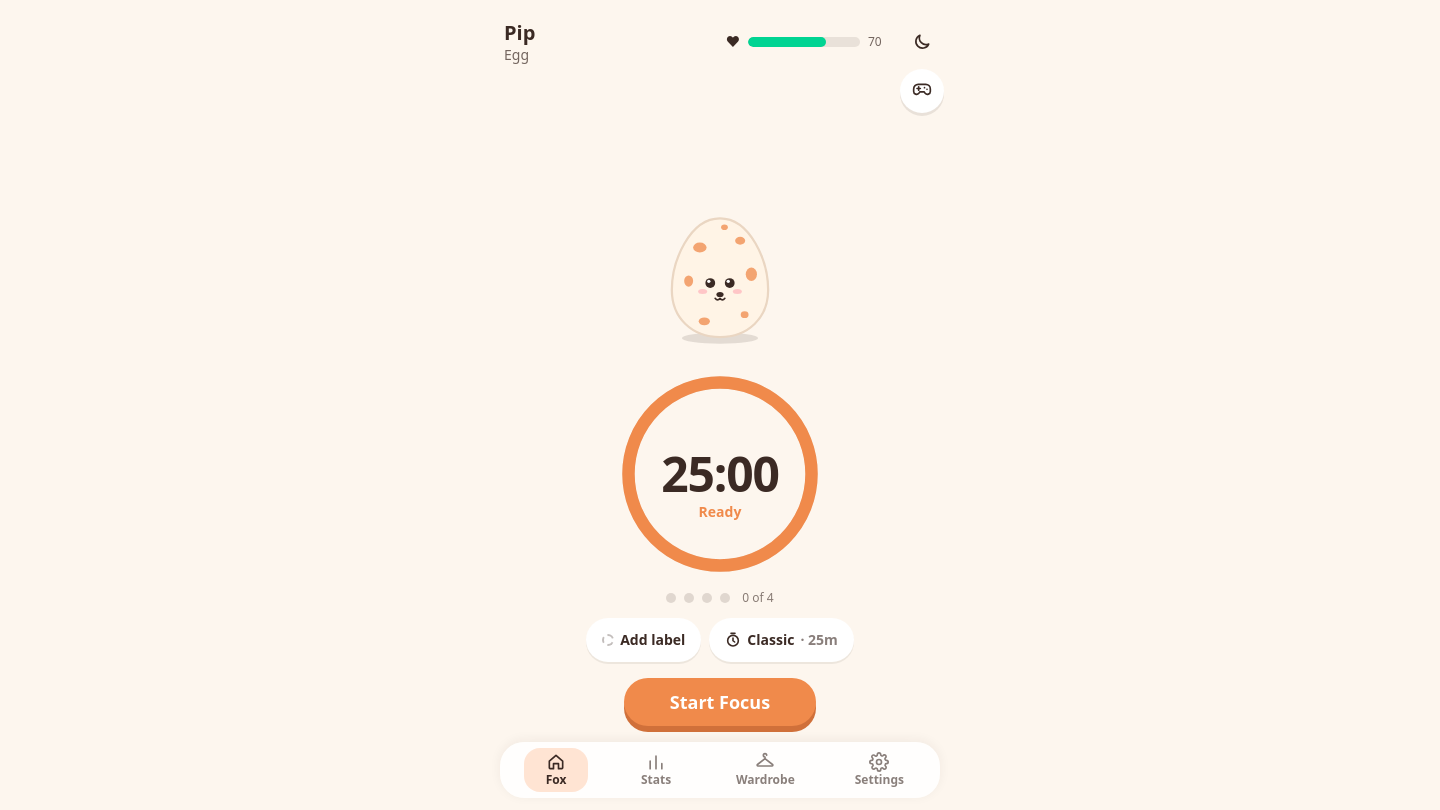
PresetPicker on Home › picks a preset and locks during a session
What coordinates should you click on to do the following:
click the button with aria-label "Timer preset: Classic"
I would click on:
 (782, 640)
Its box is left=709, top=618, right=854, bottom=662.
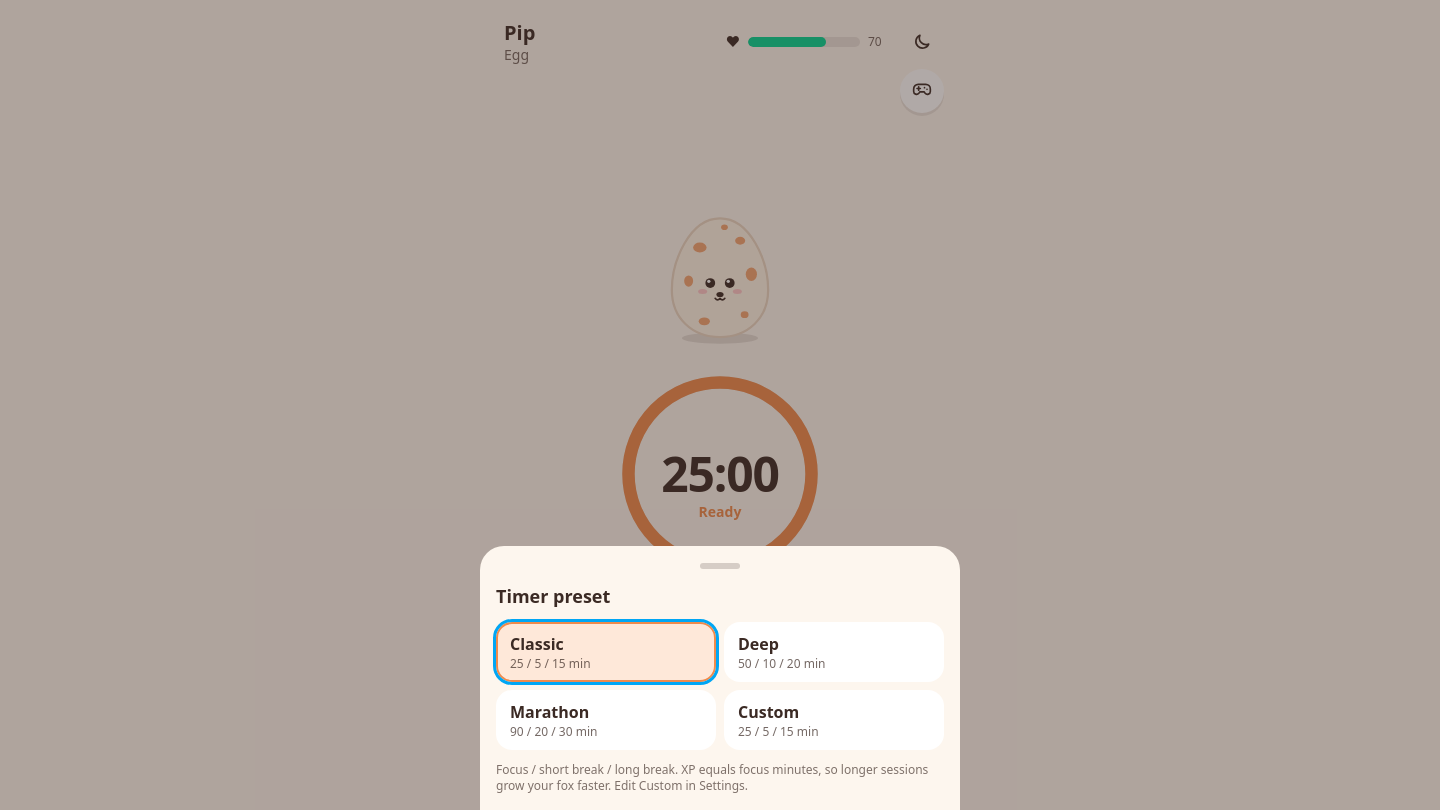
What coordinates should you click on to do the following:
click the radio button labelled "Deep 50 / 10 / 20 min"
I would click on:
 (834, 652)
Its box is left=724, top=622, right=944, bottom=682.
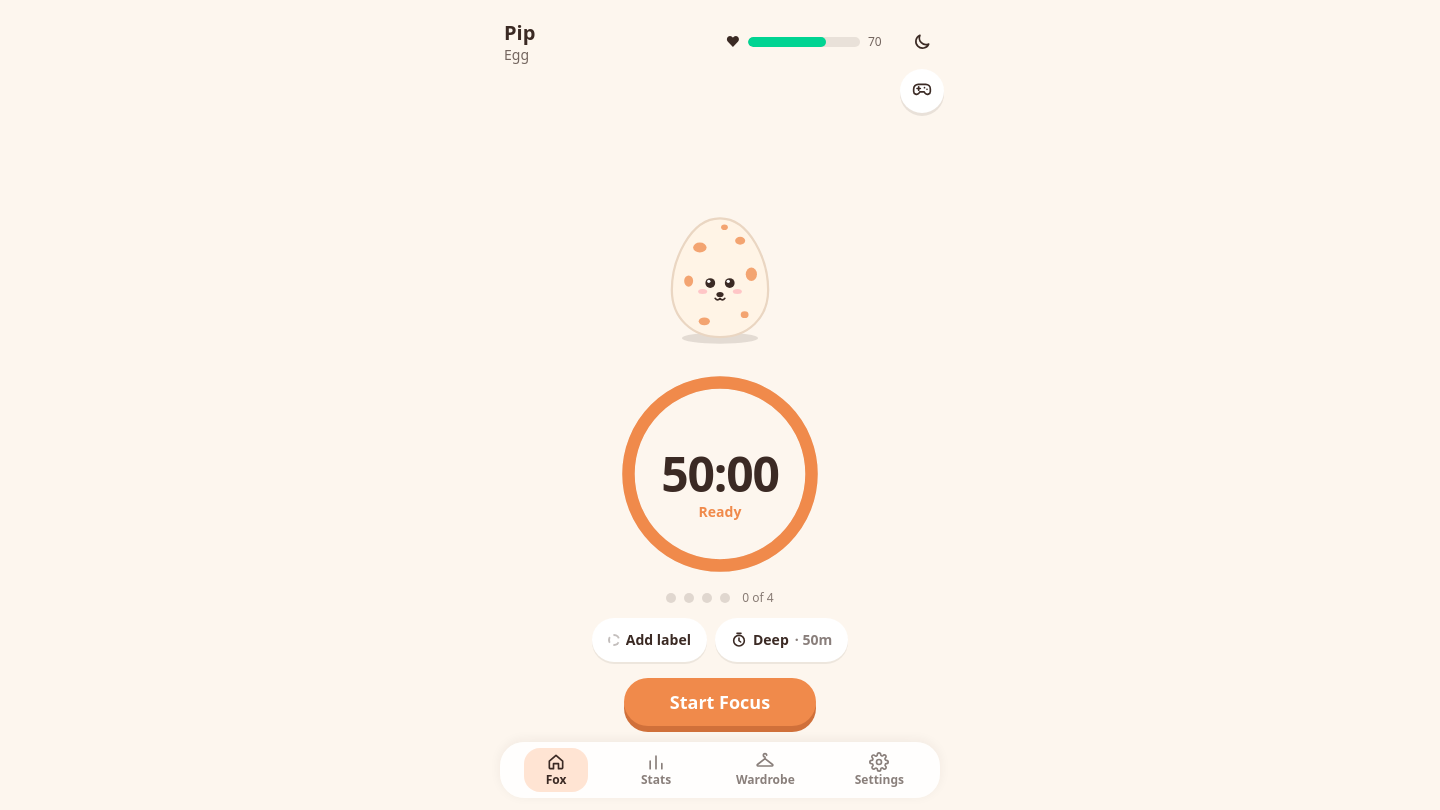
Check: the text with test id "clock" reads "50:00", box left=661, top=441, right=779, bottom=506
What coordinates should you click on to do the following:
click the button "Start Focus"
I would click on:
 (720, 702)
Its box is left=624, top=678, right=816, bottom=726.
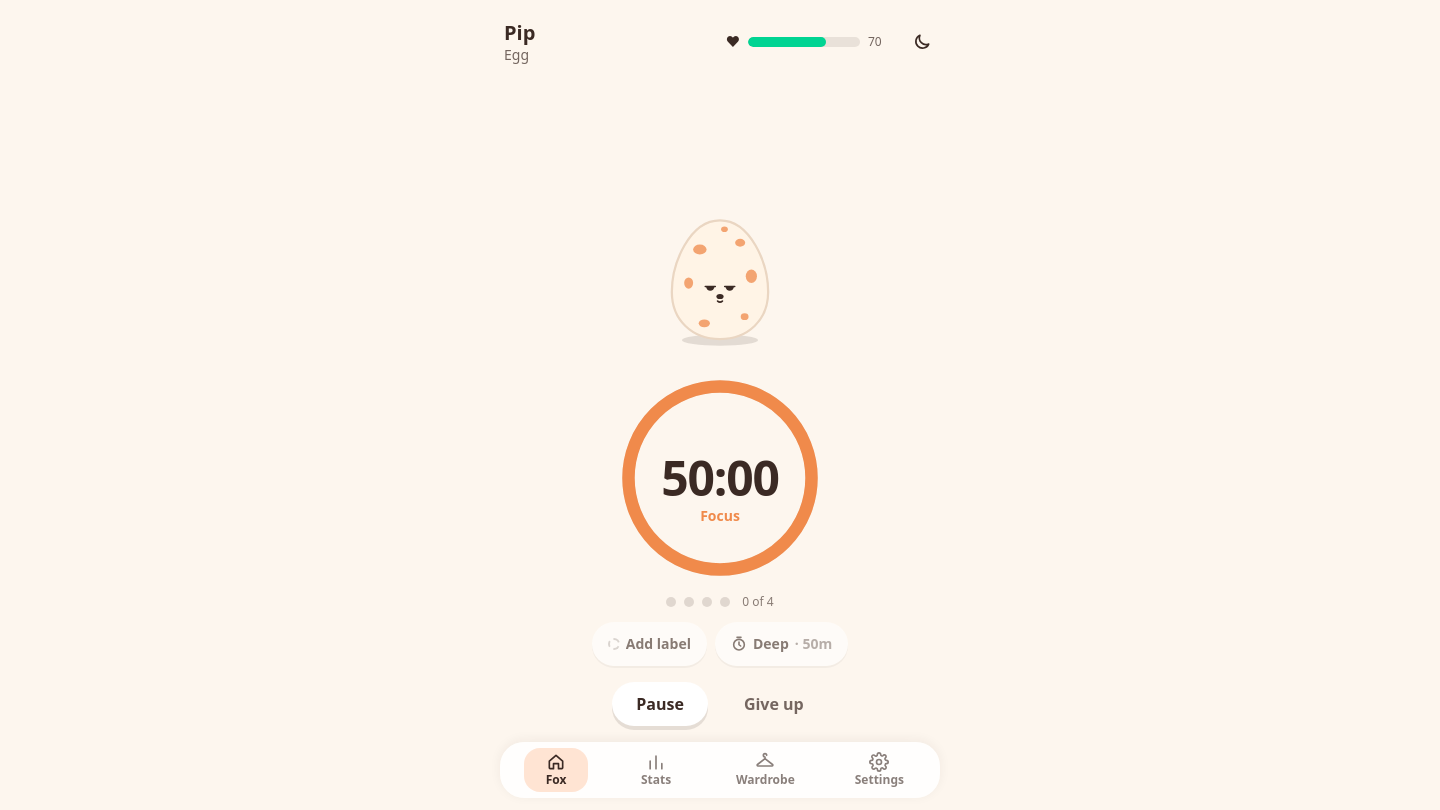
Check: the button with aria-label "Timer preset: Deep (locked" is disabled, box left=715, top=622, right=848, bottom=666
